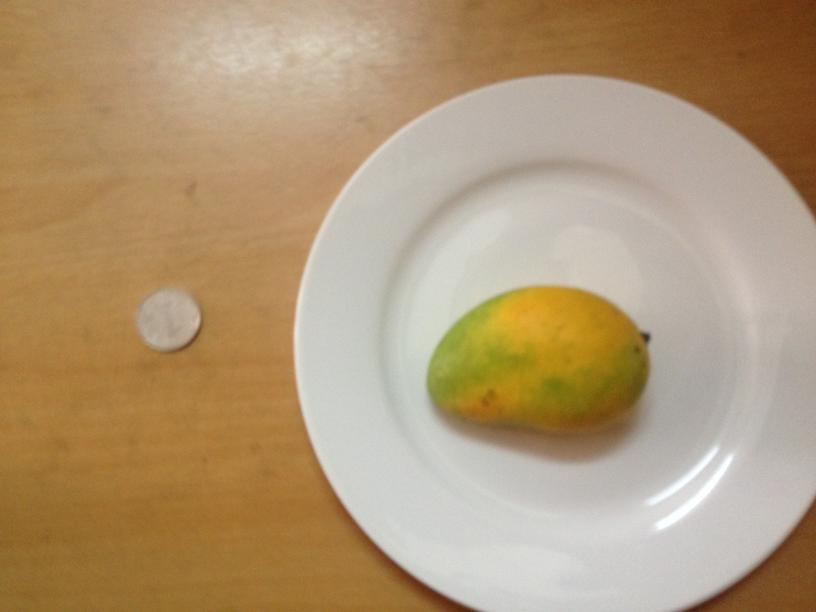coin: (134, 291, 202, 353)
mango: (423, 289, 650, 436)
